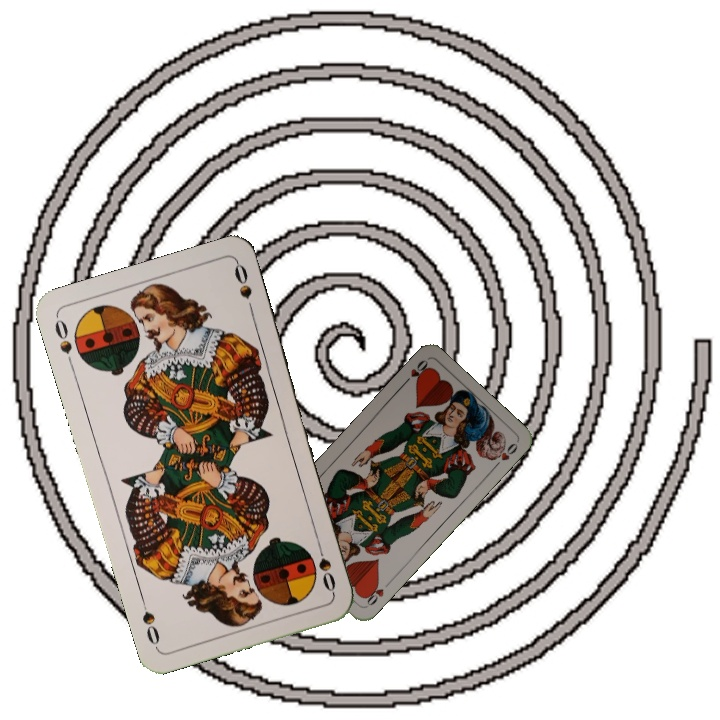HO: (398, 356, 432, 389), (359, 578, 392, 610)
SO: (313, 537, 338, 596), (50, 315, 75, 357)
